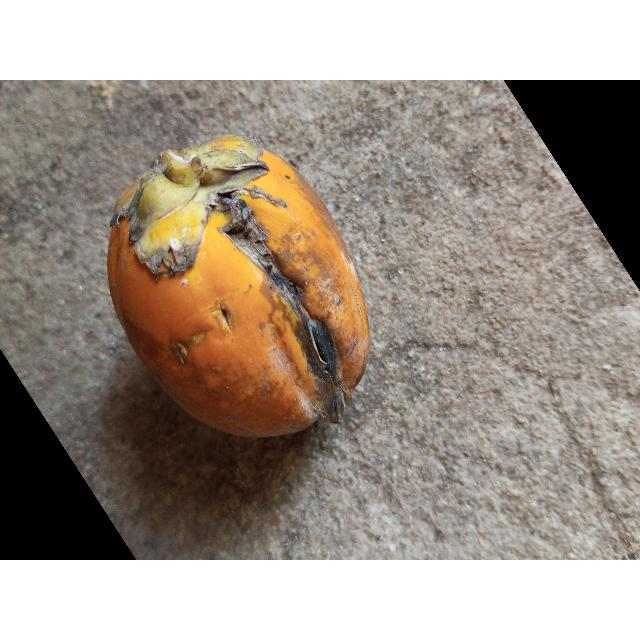damaged: (106, 135, 371, 440)
